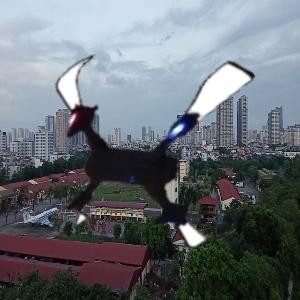drone: (33, 23, 277, 267)
